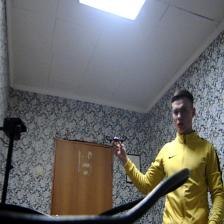drone: (102, 131, 130, 148)
